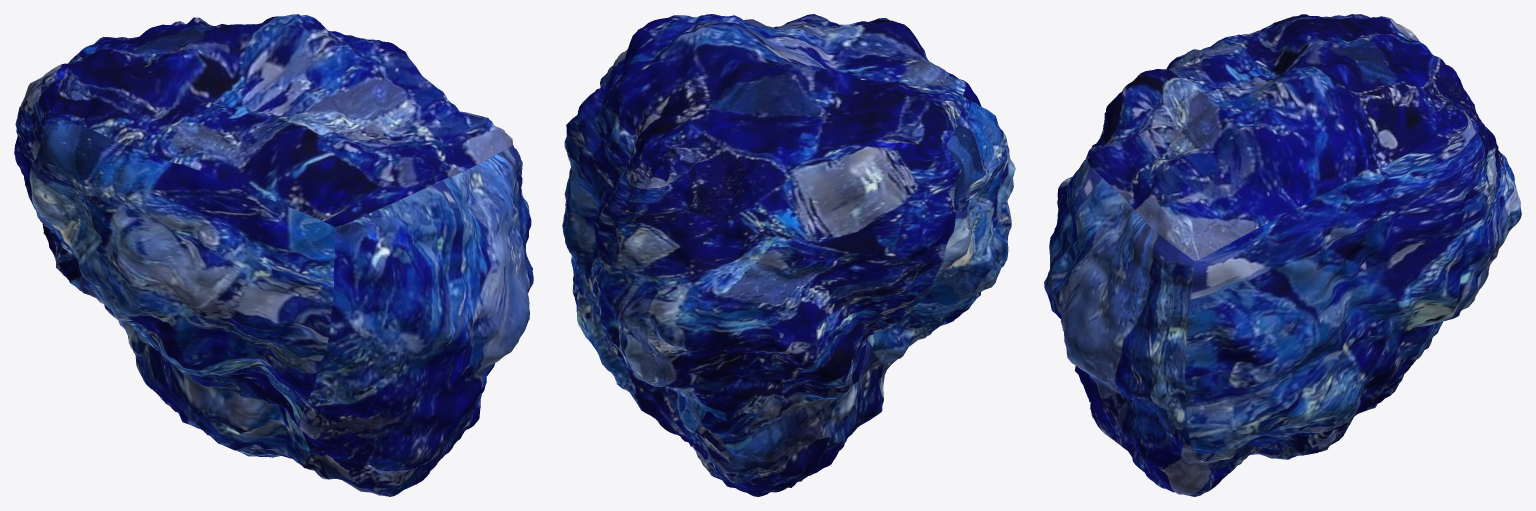
File: CompCob.glb
3 views of the same model, side by side, from view 1: azimuth 30°, elevation 25°; view 2: azimuth 150°, elevation 25°; view 3: azimuth 270°, elevation 25° (orthographic). The views are drawn at different scales.
Visible parts, largest first — view 1: Cube; view 2: Cube; view 3: Cube.
Boxes of the visible parts, x1,y1,x2,y2 form: Cube: [14, 14, 533, 496]; Cube: [562, 14, 1015, 496]; Cube: [1044, 14, 1521, 496].
Size of the model in its own units: 1.6 by 1.59 by 1.71.
Materials: 1 (1 with a texture image).
